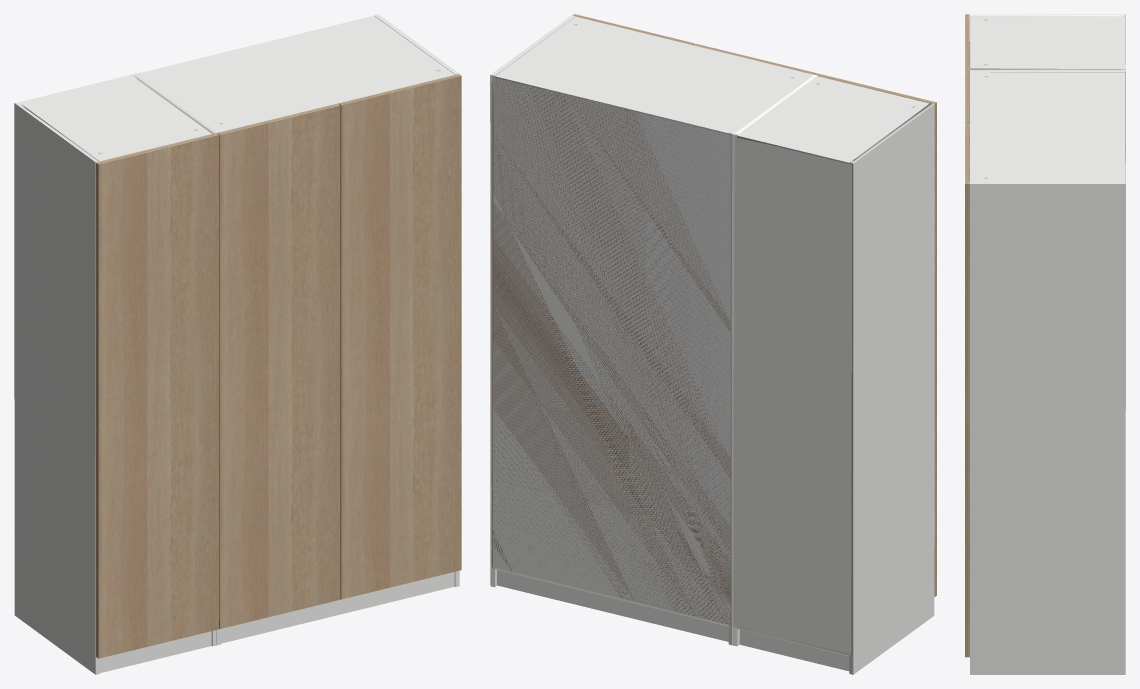
File: 15 - PAX FORSAND Wardrobe combination - whitewhite stained oak effect 150x60x201 cm.glb
3 renders of one model, left to right at view 1: azimuth 30°, elevation 25°; view 2: azimuth 150°, elevation 25°; view 3: azimuth 270°, elevation 25°, orthographic. The views are drawn at different scales.
Parts seen in each view (by area): view 1: Mesh_0; view 2: Mesh_0; view 3: Mesh_0.
Part boxes in pixels (<box>): Mesh_0: <box>14,14,461,674</box>; Mesh_0: <box>490,14,936,674</box>; Mesh_0: <box>965,14,1125,674</box>.
Bounding box in the file's own units: 1.49 × 2.01 × 0.598.
Materials: 1 (1 with a texture image).
